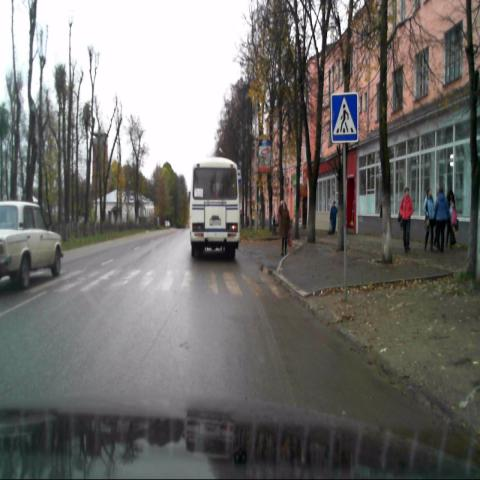5_19_1: (330, 93, 358, 143)
